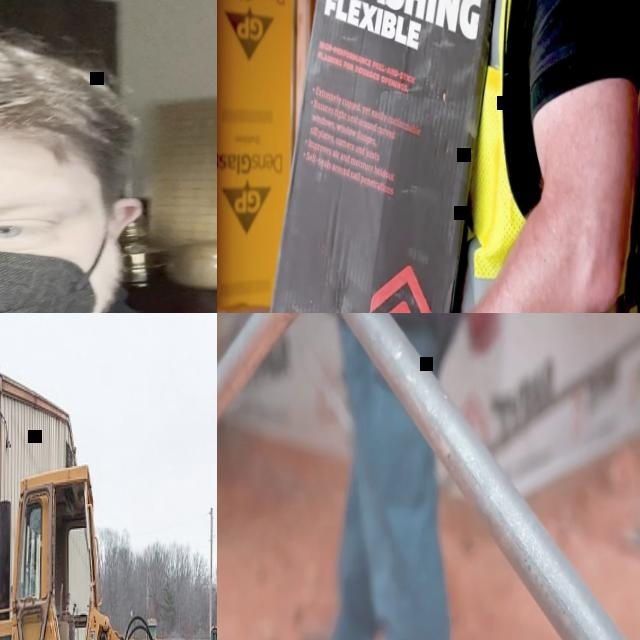NO-Hardhat: (0, 15, 125, 182)
Person: (227, 313, 509, 640), (362, 0, 640, 313), (0, 15, 217, 313)
Safety Vest: (455, 0, 640, 313)
machinery: (0, 460, 217, 640)
